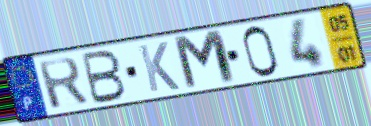0: (240, 23, 281, 79)
4: (287, 15, 329, 70)
B: (80, 48, 129, 106)
K: (135, 40, 182, 94)
M: (170, 27, 240, 93)
R: (35, 55, 92, 111)
